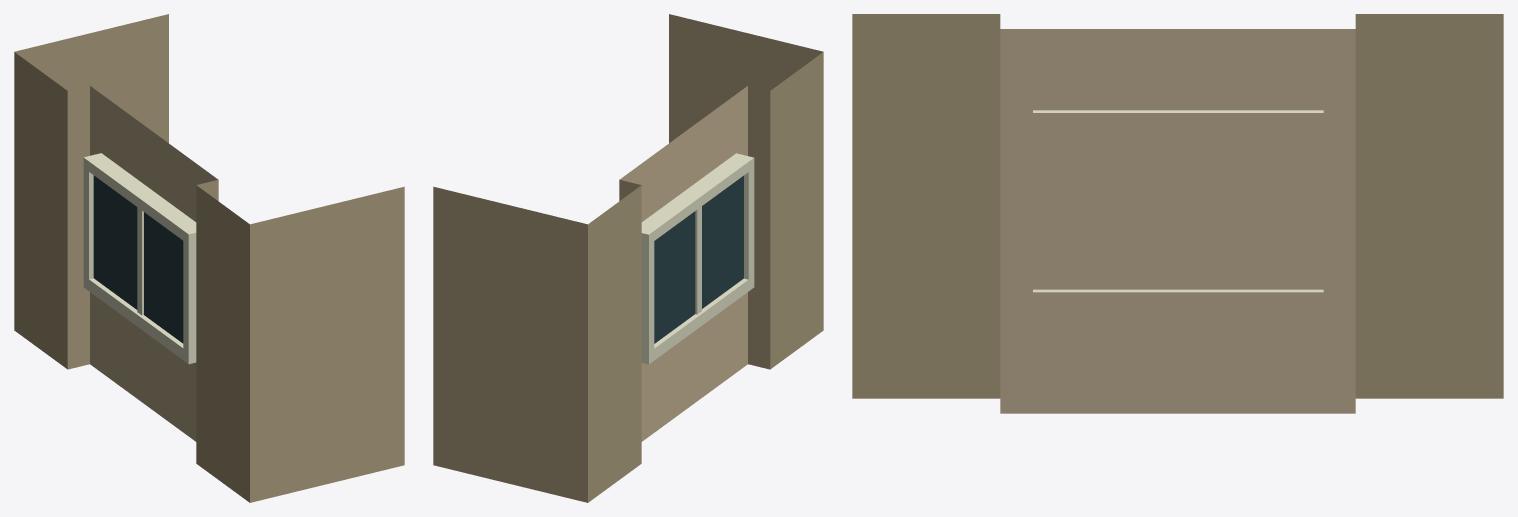
File: apartment_building1_side2_middle.fbx
3 views of the same model, side by side, from view 1: azimuth 30°, elevation 25°; view 2: azimuth 150°, elevation 25°; view 3: azimuth 270°, elevation 25° (orthographic). The views are drawn at different scales.
Parts seen in each view (by area): view 1: apartment_building1_side2_middle; view 2: apartment_building1_side2_middle; view 3: apartment_building1_side2_middle.
Boxes of the visible parts, box(x1,y1,x2,y2) form: apartment_building1_side2_middle: box(14, 14, 404, 502); apartment_building1_side2_middle: box(433, 14, 823, 502); apartment_building1_side2_middle: box(852, 14, 1503, 413).
Size of the model in its own units: 145 by 250 by 384.
